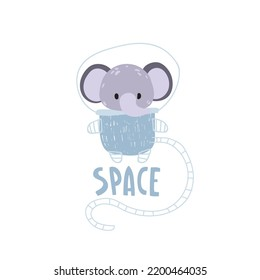elephant: (77, 60, 175, 117)
